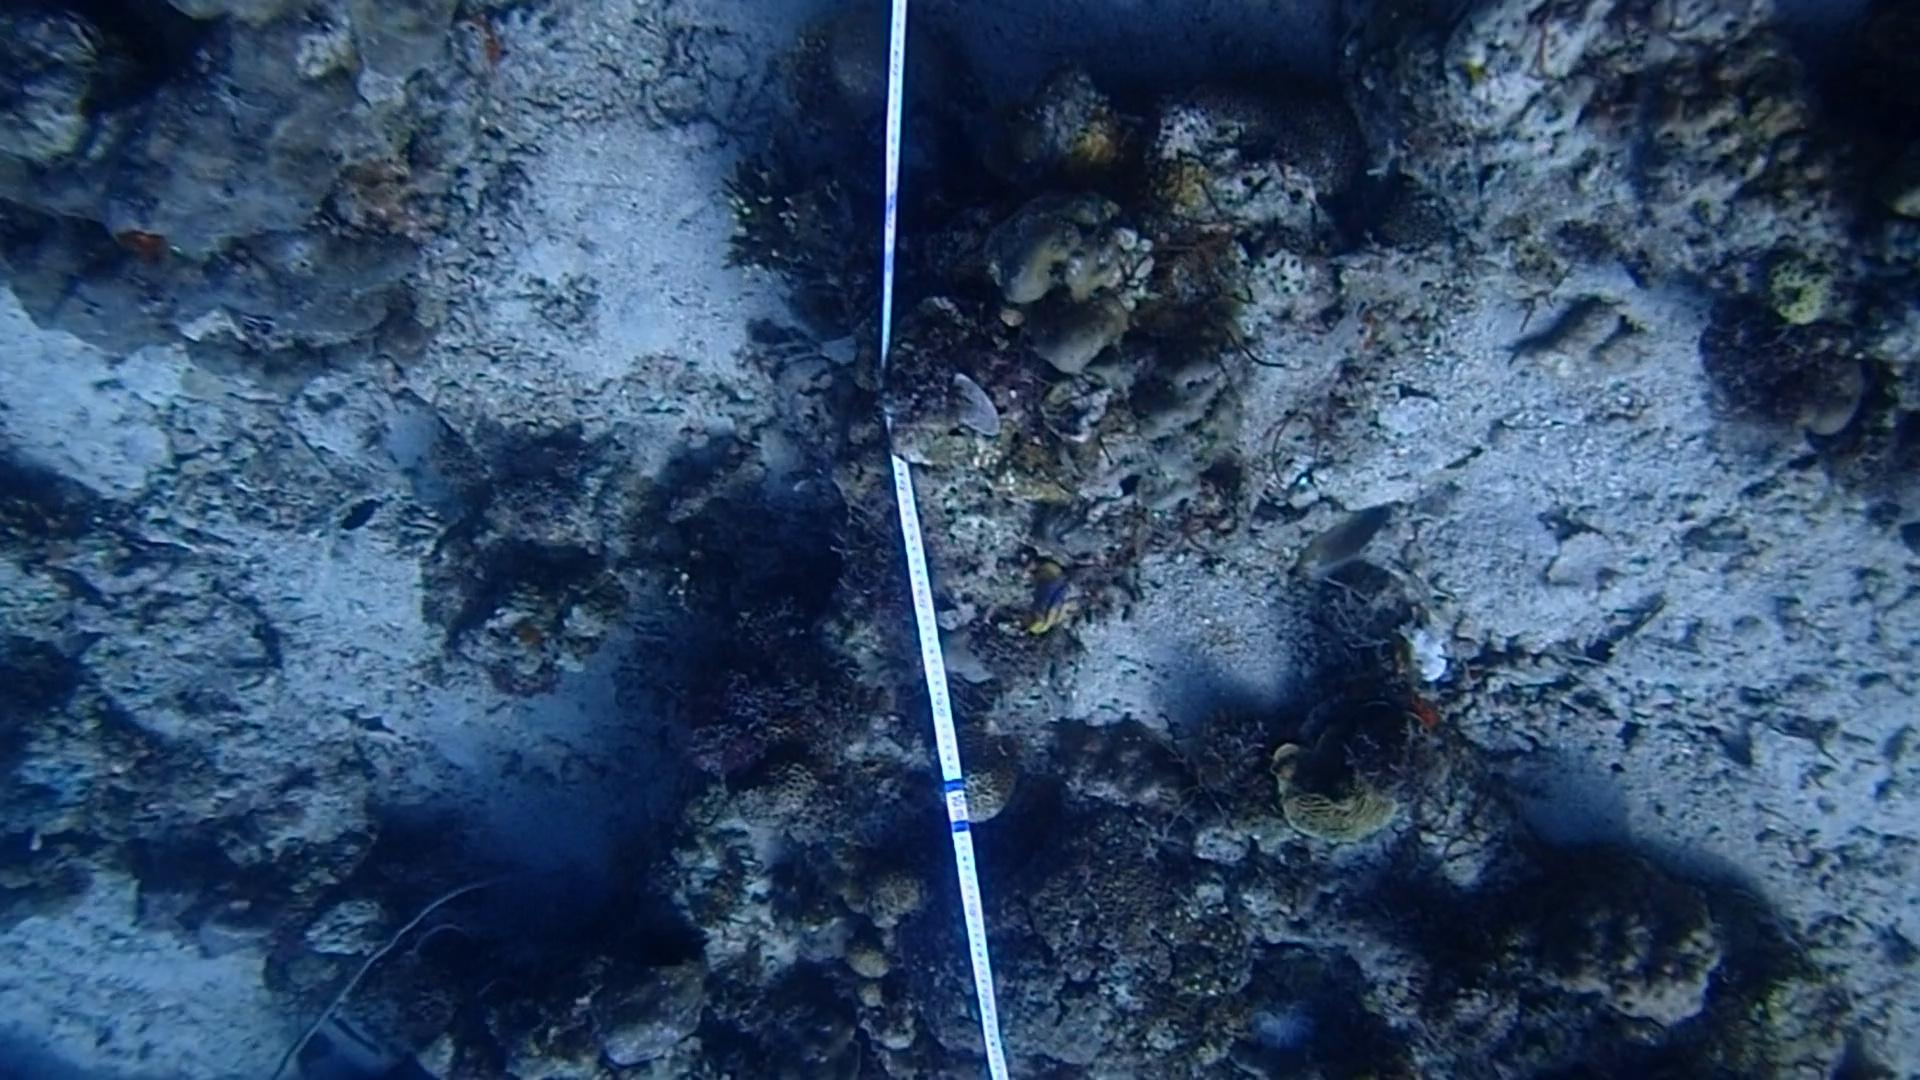Dark Fish: (605, 909, 720, 978), (342, 488, 385, 542)
Light Fish: (1309, 496, 1395, 571)
